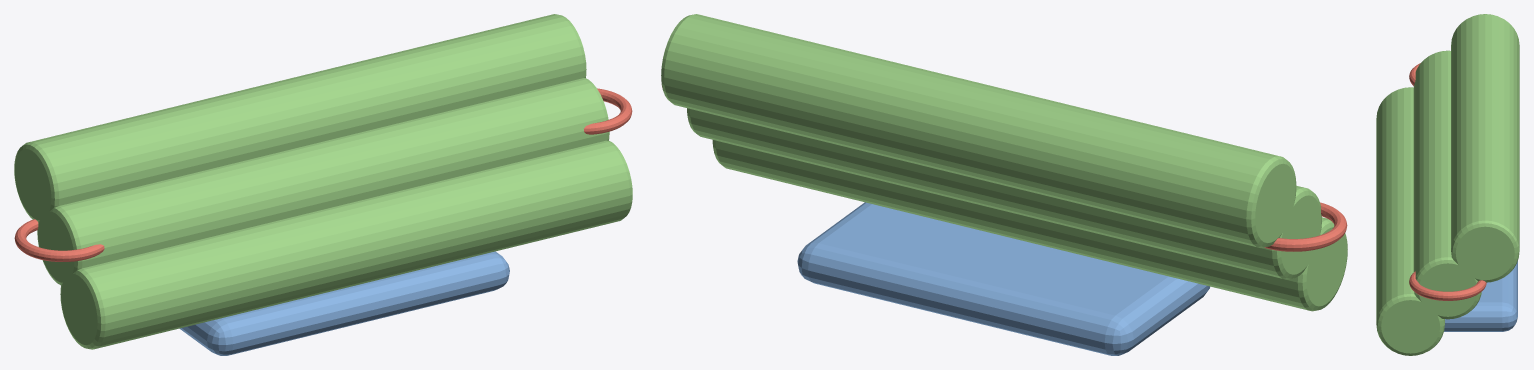
Rendered from blender-couch.glb.
3 renders of one model, left to right at view 1: azimuth 30°, elevation 25°; view 2: azimuth 150°, elevation 25°; view 3: azimuth 270°, elevation 25°, orthographic. The views are drawn at different scales.
Visible parts, largest first — view 1: Cylinder, Cylinder.002, Cylinder.001, Cube, Torus, Torus.001; view 2: Cylinder.002, Cube, Cylinder, Cylinder.001, Torus; view 3: Cylinder.002, Cylinder, Cylinder.001, Cube, Torus.001.
Boxes of the visible parts, box(x1,y1,x2,y2) form: Cylinder: box(60, 140, 632, 349); Cylinder.002: box(14, 14, 586, 222); Cylinder.001: box(37, 78, 609, 285); Cube: box(179, 251, 509, 355); Torus: box(14, 219, 104, 261); Torus.001: box(584, 88, 632, 134); Cylinder.002: box(661, 14, 1296, 247); Cube: box(797, 202, 1209, 355); Cylinder: box(712, 140, 1347, 311); Cylinder.001: box(687, 108, 1321, 279); Torus: box(1264, 202, 1347, 251); Cylinder.002: box(1451, 14, 1519, 282); Cylinder: box(1376, 87, 1444, 355); Cylinder.001: box(1413, 50, 1481, 319); Cube: box(1444, 261, 1517, 331); Torus.001: box(1409, 271, 1486, 300).
Size of the model in its own units: 1.81 by 0.57 by 0.46.
